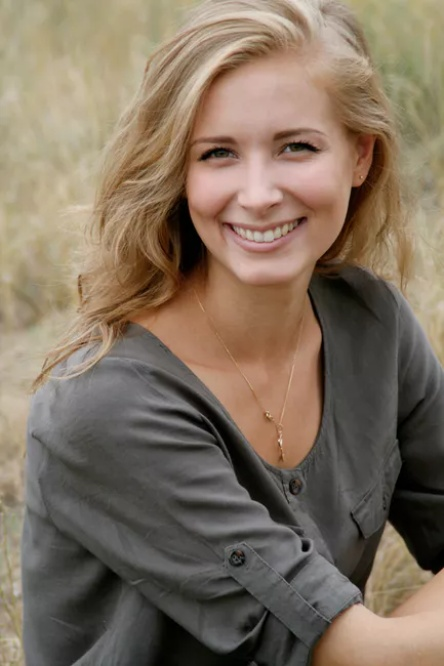face: (183, 63, 351, 285)
